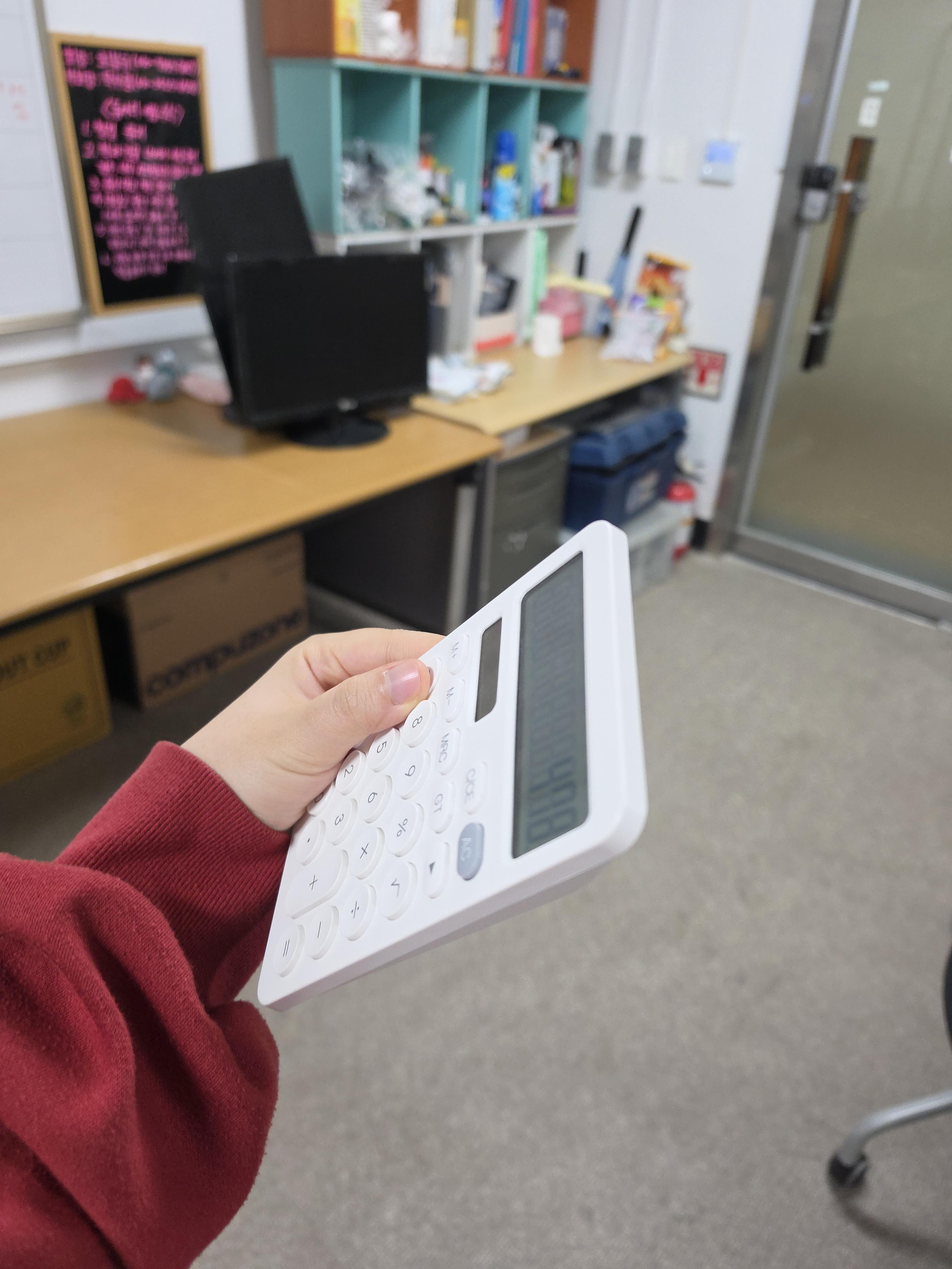calculator: (257, 521, 648, 1010)
